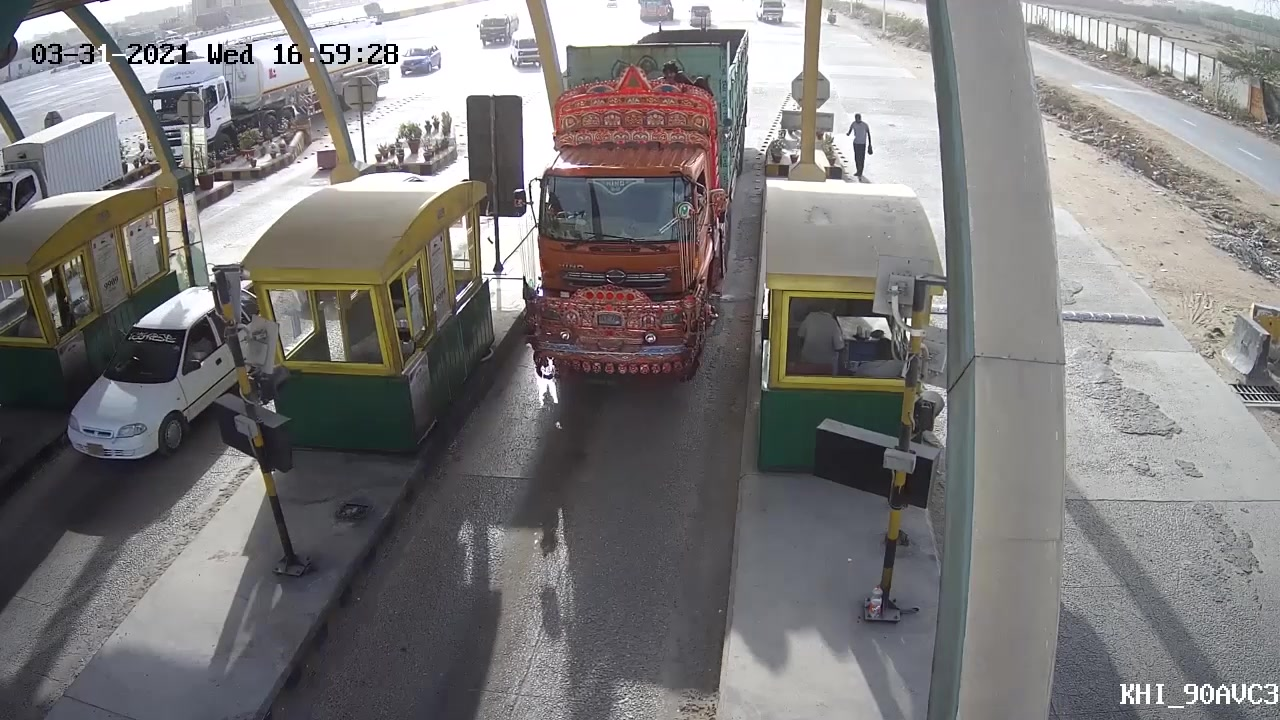F6: (513, 22, 759, 388)
